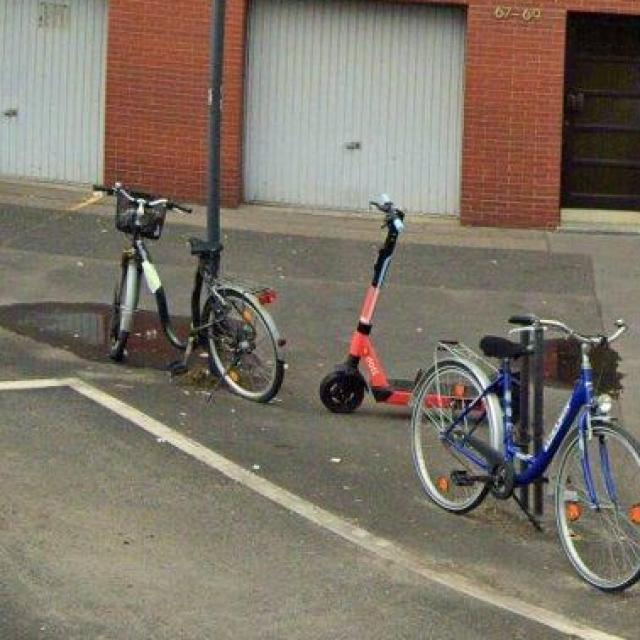bicycle: (412, 276, 636, 624), (74, 165, 294, 416)
